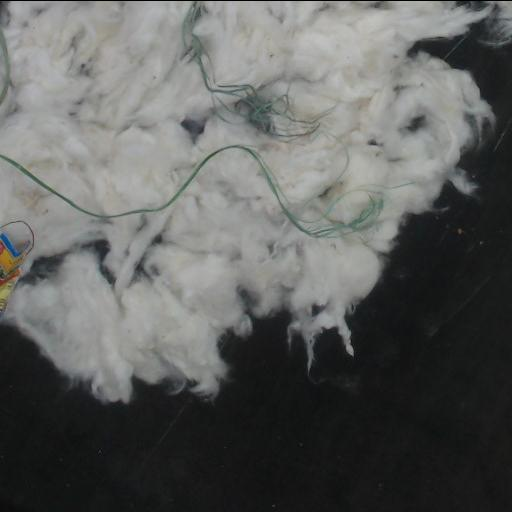conveyor belt: (0, 33, 511, 512), (18, 250, 71, 284), (77, 241, 105, 250)
cotton: (0, 1, 511, 401)
packet: (0, 221, 34, 314)
thread: (0, 144, 382, 237), (181, 1, 323, 140), (0, 29, 12, 104)
